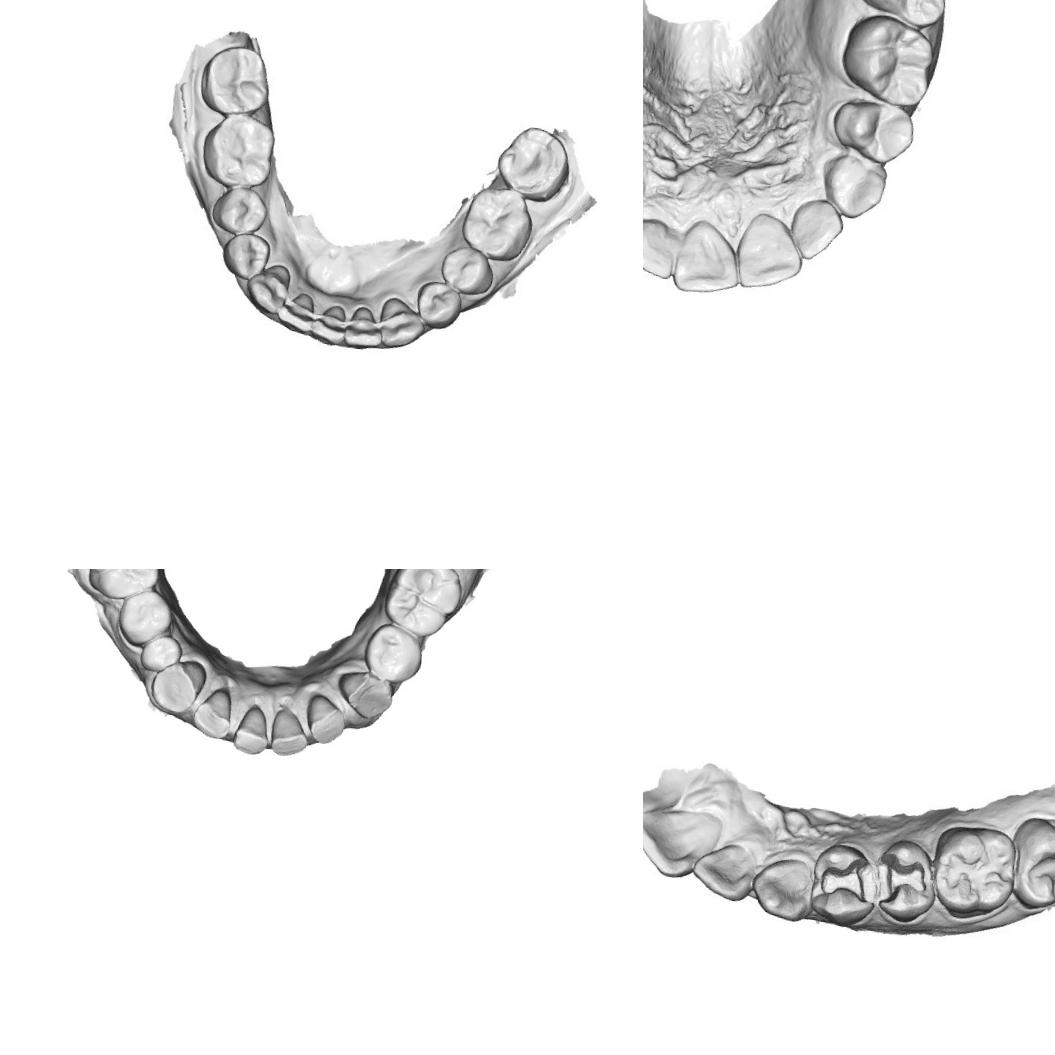canine: (814, 152, 892, 218), (746, 848, 812, 921), (145, 654, 210, 720), (335, 668, 398, 724), (376, 295, 428, 354), (243, 260, 294, 318)
incisor: (643, 799, 727, 881), (734, 208, 805, 290), (676, 212, 744, 296), (693, 833, 758, 897), (792, 192, 847, 258), (643, 203, 691, 276), (303, 693, 352, 749), (189, 684, 236, 742), (264, 708, 314, 762), (230, 702, 274, 758), (342, 304, 389, 355), (272, 287, 319, 338), (306, 302, 350, 348)
inlay: (872, 848, 930, 910), (812, 854, 876, 908)
molar: (838, 10, 940, 112), (931, 820, 1024, 914), (196, 107, 282, 193), (491, 121, 575, 205), (457, 182, 537, 264), (194, 42, 276, 120), (1007, 810, 1055, 906), (69, 569, 166, 606), (855, 0, 949, 25)
premolar: (827, 88, 916, 164), (379, 569, 467, 641), (360, 618, 428, 688), (114, 586, 176, 650), (210, 182, 272, 237), (438, 244, 498, 298), (218, 229, 272, 283), (413, 278, 463, 330), (136, 630, 185, 676)
